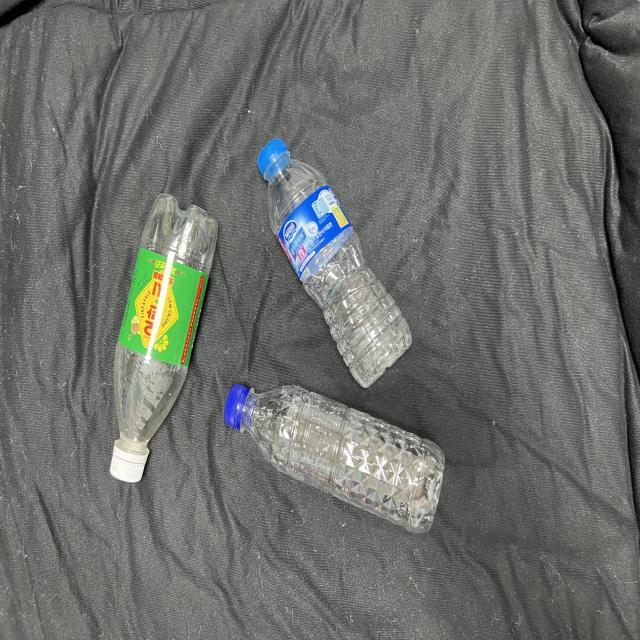good: (209, 352, 474, 554), (82, 176, 234, 510)
